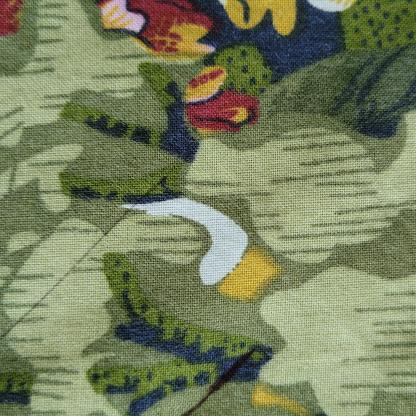spot: (6, 161, 187, 346), (176, 335, 275, 412)
